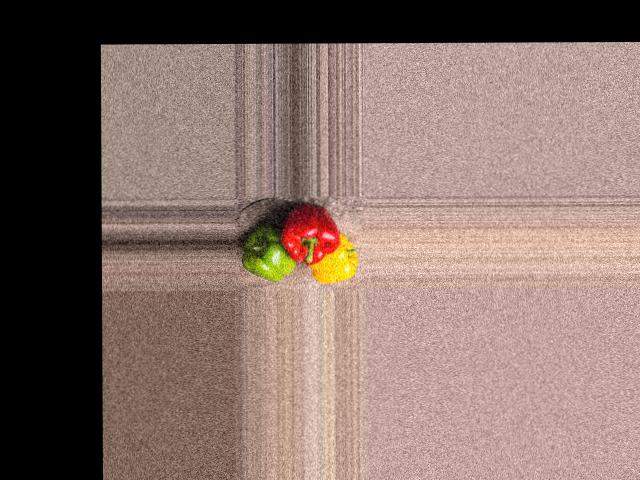bell_pepper: (311, 233, 357, 285)
